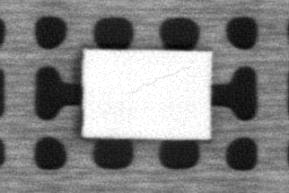DIE_CRACK: (132, 66, 191, 91)
